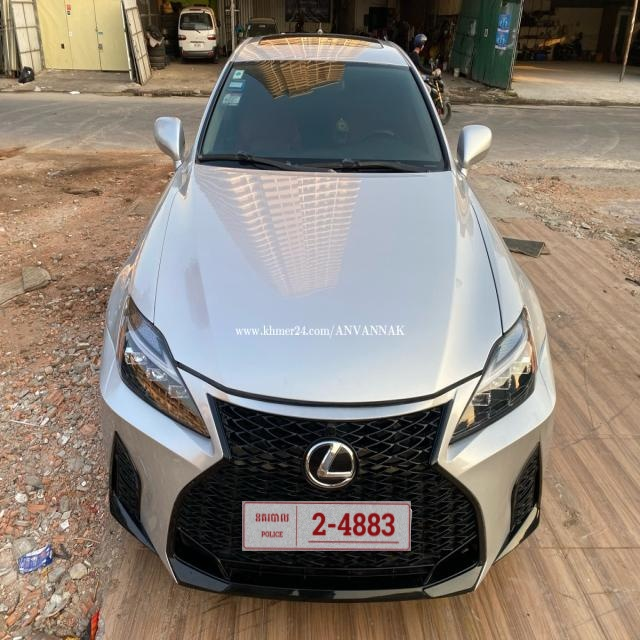Plate Number: (243, 501, 412, 551)
